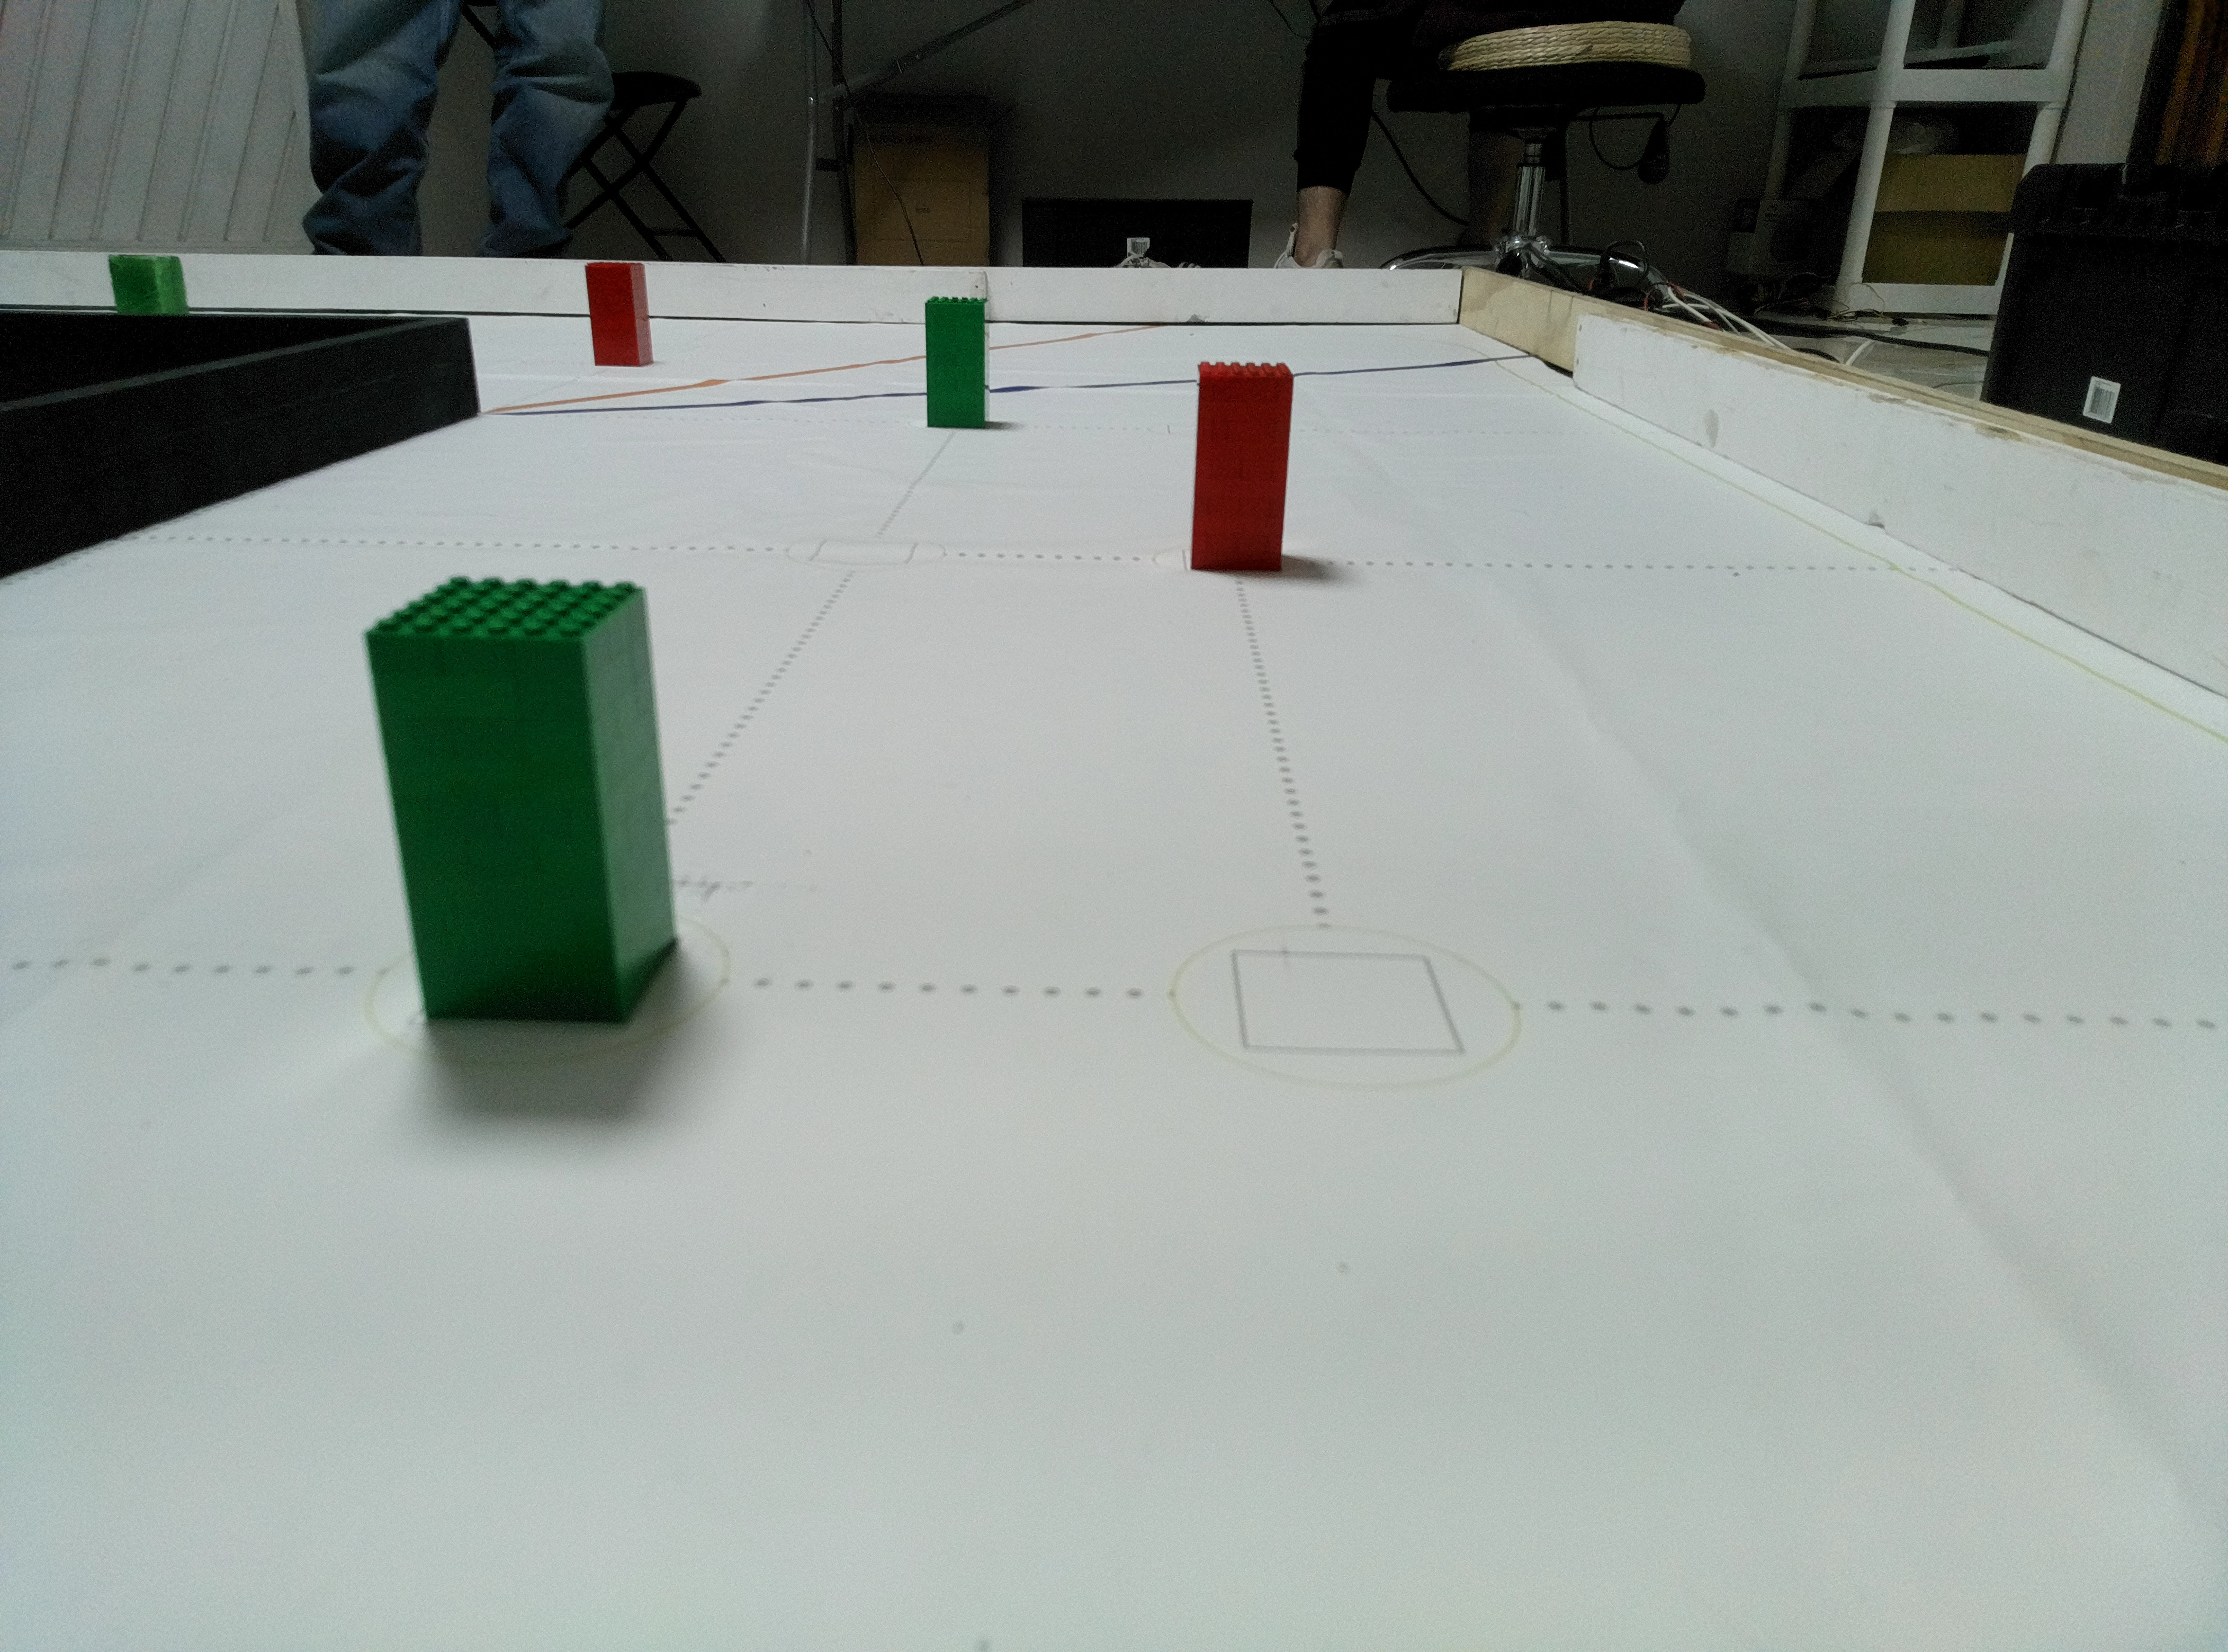greenbox: (349, 576, 691, 1029), (921, 297, 984, 425), (108, 255, 182, 318)
redbox: (1199, 357, 1288, 573), (583, 259, 654, 370)
